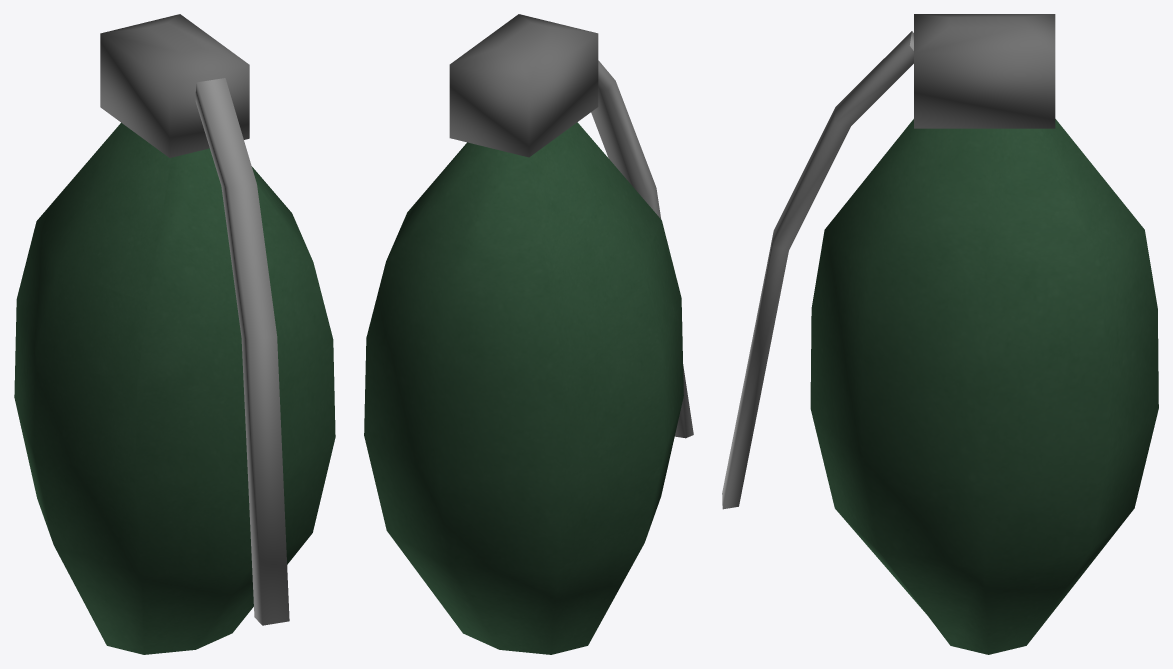
Rendered from TheGrenadeHeha.fbx.
The picture shows the model from 3 angles, left to right: view 1: azimuth 30°, elevation 25°; view 2: azimuth 150°, elevation 25°; view 3: azimuth 270°, elevation 25°; orthographic projection. The views are drawn at different scales.
Parts seen in each view (by area): view 1: Cylinder001, Box001, Box002; view 2: Cylinder001, Box002, Box001; view 3: Cylinder001, Box002, Box001.
Part boxes in pixels (bbox=[...]): Cylinder001: bbox=[14, 122, 335, 654]; Box001: bbox=[195, 78, 289, 625]; Box002: bbox=[100, 14, 249, 157]; Cylinder001: bbox=[364, 122, 683, 654]; Box002: bbox=[449, 14, 598, 157]; Box001: bbox=[591, 60, 693, 438]; Cylinder001: bbox=[810, 119, 1158, 654]; Box002: bbox=[914, 14, 1055, 128]; Box001: bbox=[722, 31, 913, 509].
Bounding box in the file's own units: 2.04 × 4.08 × 2.68.
